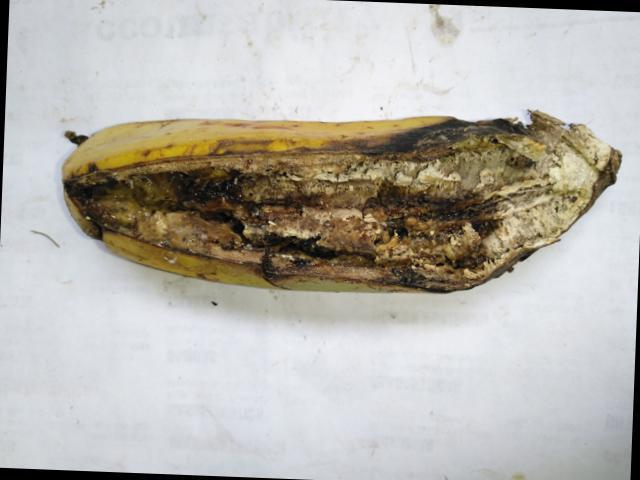rotten: (63, 100, 615, 317)
